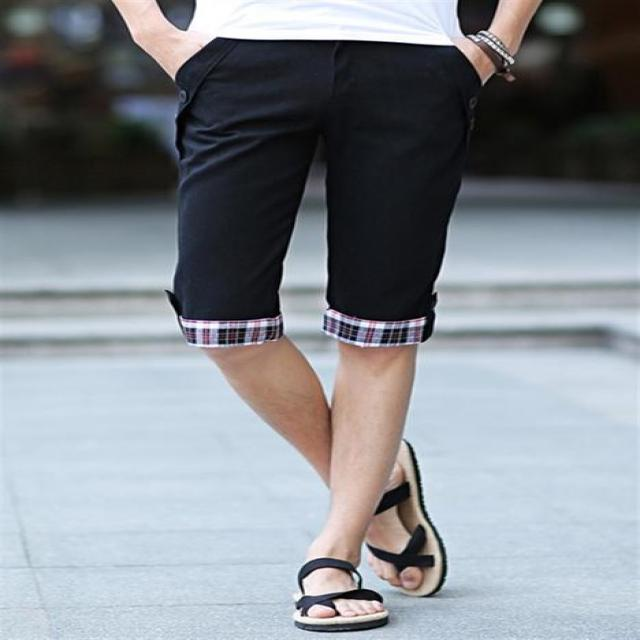shorts: (129, 26, 576, 429)
